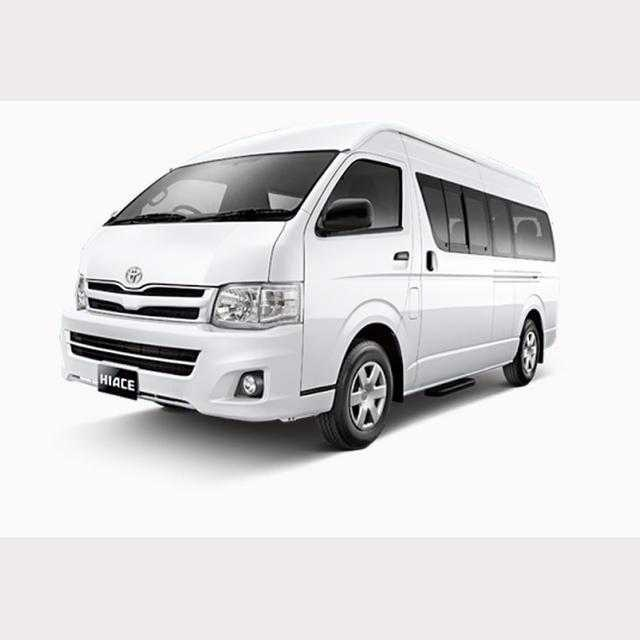Van: (58, 120, 555, 451)
